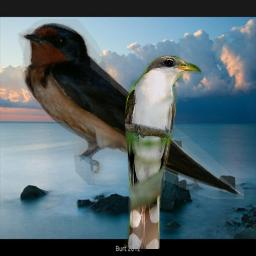Cuckoo: (123, 54, 202, 249)
Swallow: (17, 19, 244, 199)
